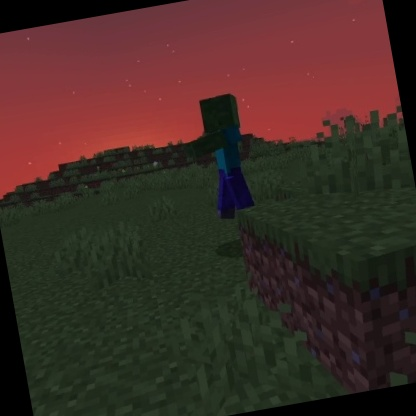zombie: (177, 90, 262, 227)
